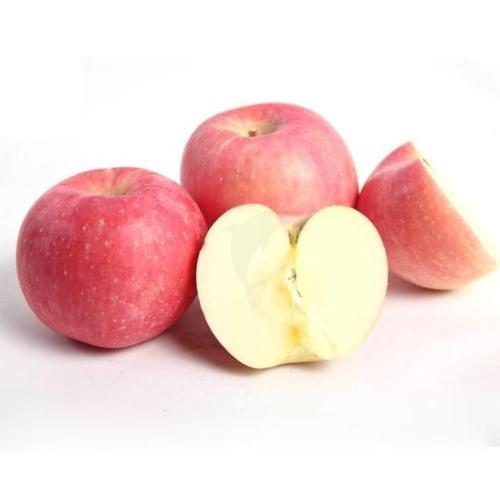apple: (15, 167, 209, 352), (177, 100, 358, 229), (356, 141, 500, 292)
